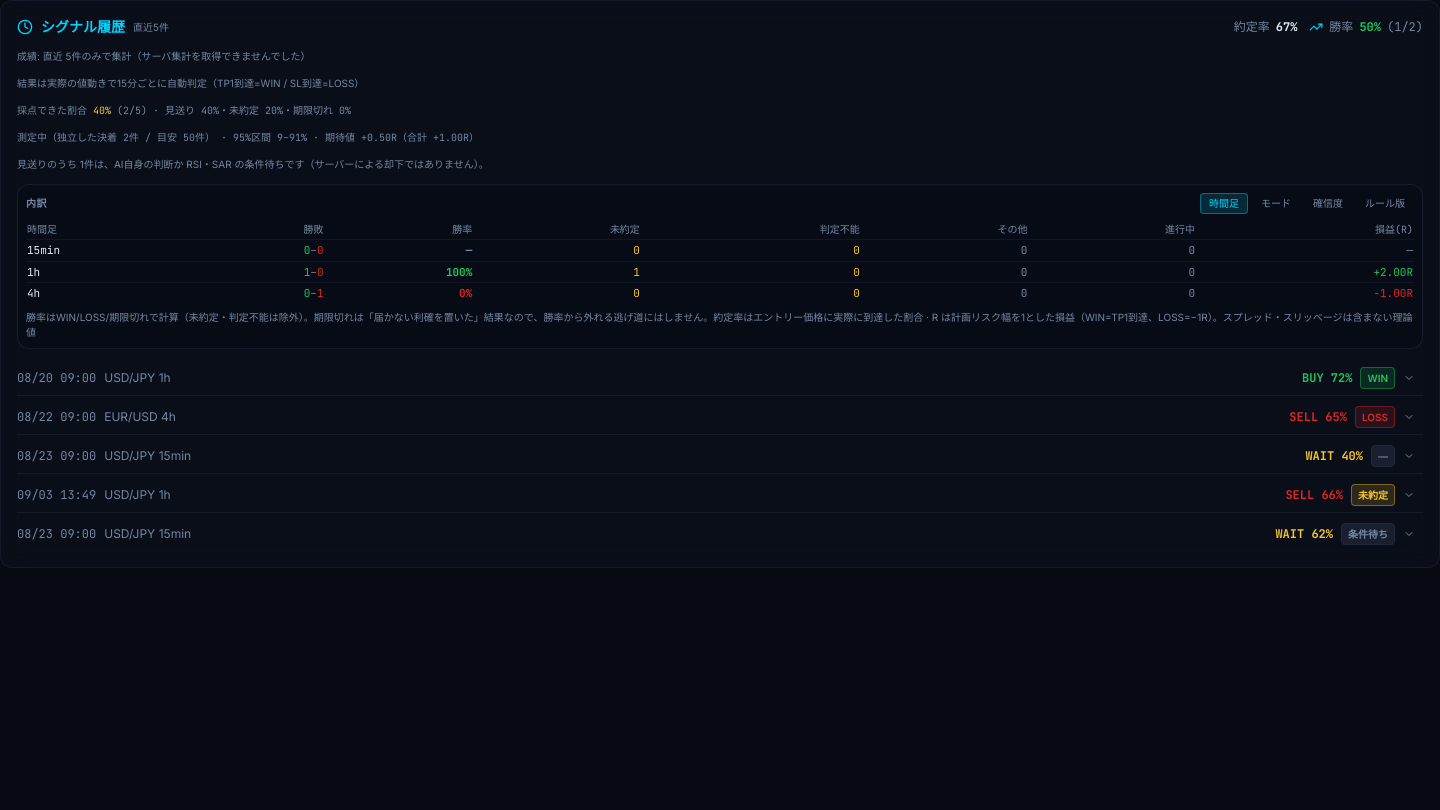
Test: AnalysisHistory (DB records) › labels a WAIT the RSI/SAR rule decided as waiting for the conditions
Expected: the text "条件待ち" is shown, top-left (1341, 522), bottom-right (1395, 544)
What coordinates should you click on to do the following:
click the button "08/23 09:00 USD/JPY 15min WAIT 62% 条件待ち"
I would click on:
 (57, 534)
Its box is top-left (13, 516), bottom-right (1419, 550).
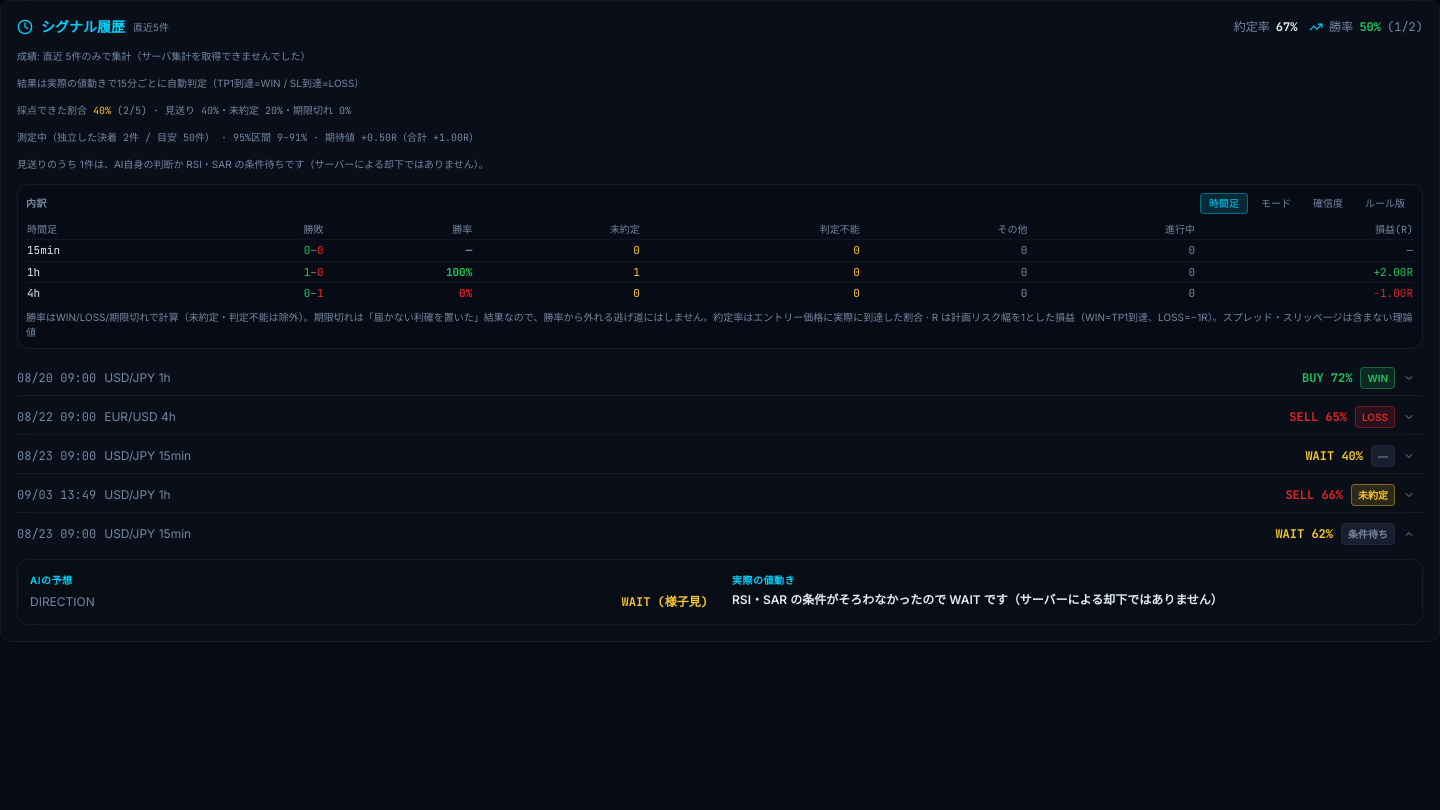
Expected: the text "RSI・SAR の条件がそろわなかったので WAIT です（サーバーによる却下ではありません）" is shown, top-left (732, 592), bottom-right (1223, 606)
